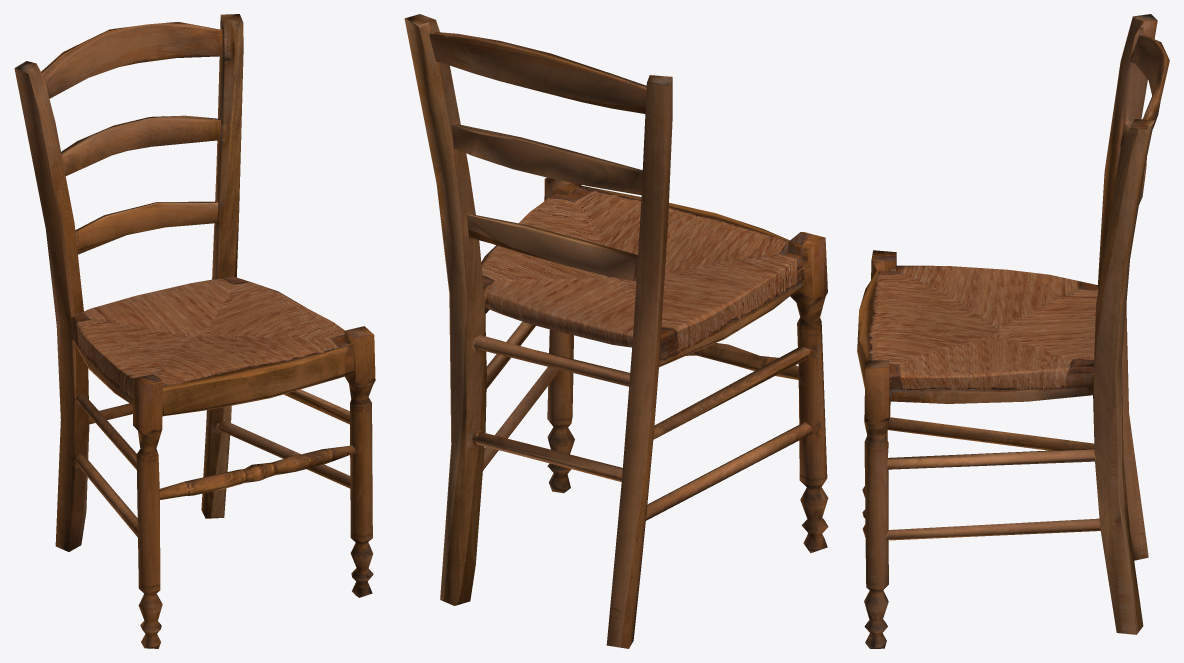
Rendered from woven_chair.gltf.
The picture shows the model from 3 angles, left to right: view 1: azimuth 30°, elevation 25°; view 2: azimuth 150°, elevation 25°; view 3: azimuth 270°, elevation 25°; orthographic projection. The views are drawn at different scales.
Parts seen in each view (by area): view 1: Aset_props__M_wjglah2s_00_LOD5; view 2: Aset_props__M_wjglah2s_00_LOD5; view 3: Aset_props__M_wjglah2s_00_LOD5.
Boxes of the visible parts, x1=… form: Aset_props__M_wjglah2s_00_LOD5: x1=14, y1=14, x2=375, y2=648; Aset_props__M_wjglah2s_00_LOD5: x1=404, y1=14, x2=828, y2=648; Aset_props__M_wjglah2s_00_LOD5: x1=857, y1=14, x2=1169, y2=648.
Bounding box in the file's own units: 42.46 × 86.32 × 46.31.
Materials: 1 (1 with a texture image).
